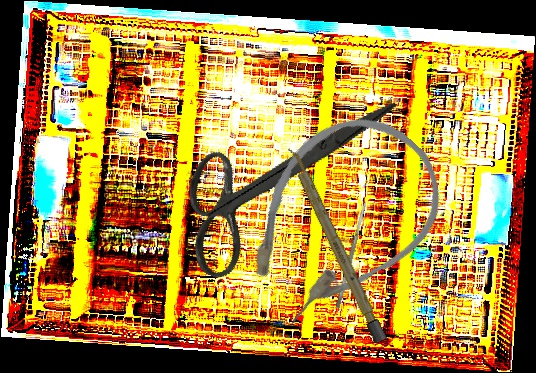Cannula: (208, 88, 468, 351)
Iris Scissors: (159, 40, 397, 317)
Scalpel Handle: (284, 144, 388, 345)
Spatula Surgical: (334, 200, 369, 310)
